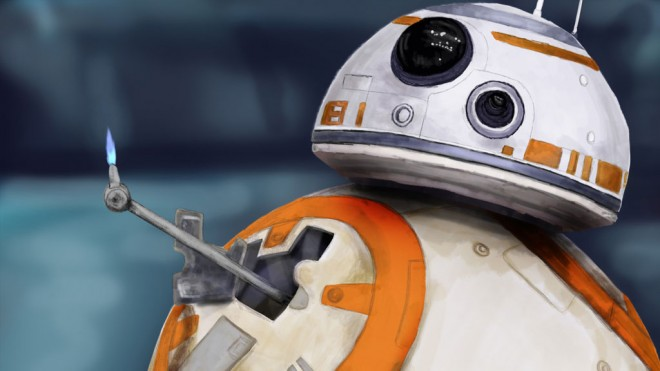bb8: (147, 1, 660, 370)
